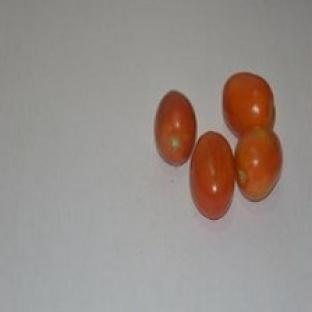Tomato: (190, 131, 235, 220), (236, 127, 282, 200), (223, 73, 274, 137), (155, 91, 196, 165)
